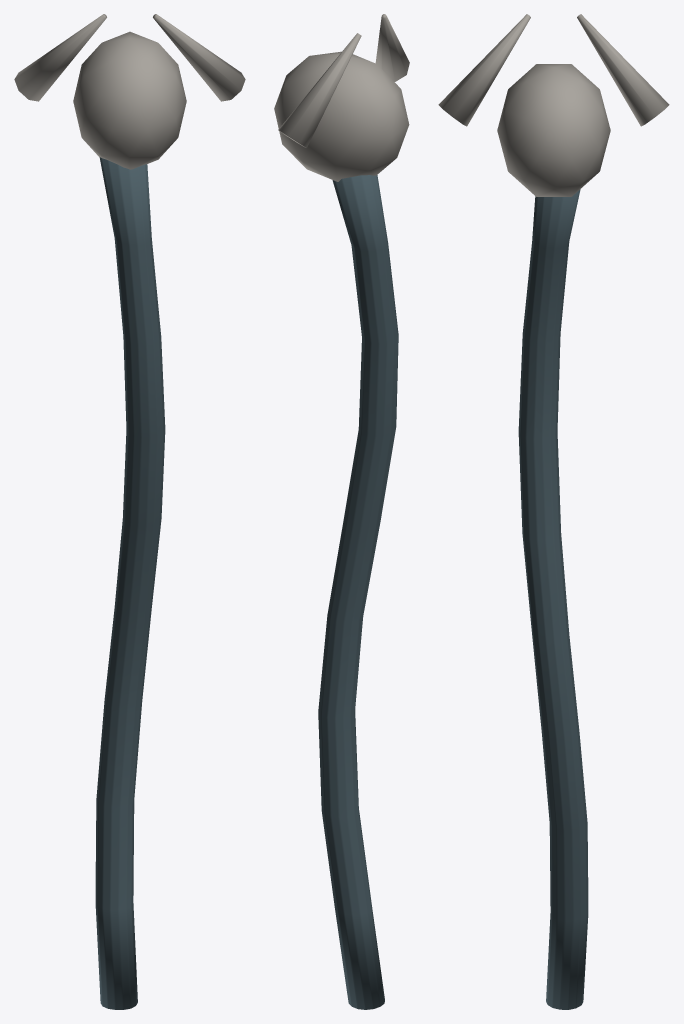
Rendered from SM_Staff_SkullCorrupted.fbx.
3 renders of one model, left to right at view 1: azimuth 90°, elevation 25°; view 2: azimuth 150°, elevation 25°; view 3: azimuth 270°, elevation 25°, orthographic.
Parts seen in each view (by area): view 1: Cylinder; view 2: Cylinder; view 3: Cylinder.
Part boxes in pixels (x1,y1,x2,y2): Cylinder: (14,14,245,1009); Cylinder: (274,14,409,1009); Cylinder: (438,14,669,1009).
Bounding box in the file's own units: 0.5131 × 0.3062 × 2.42.
